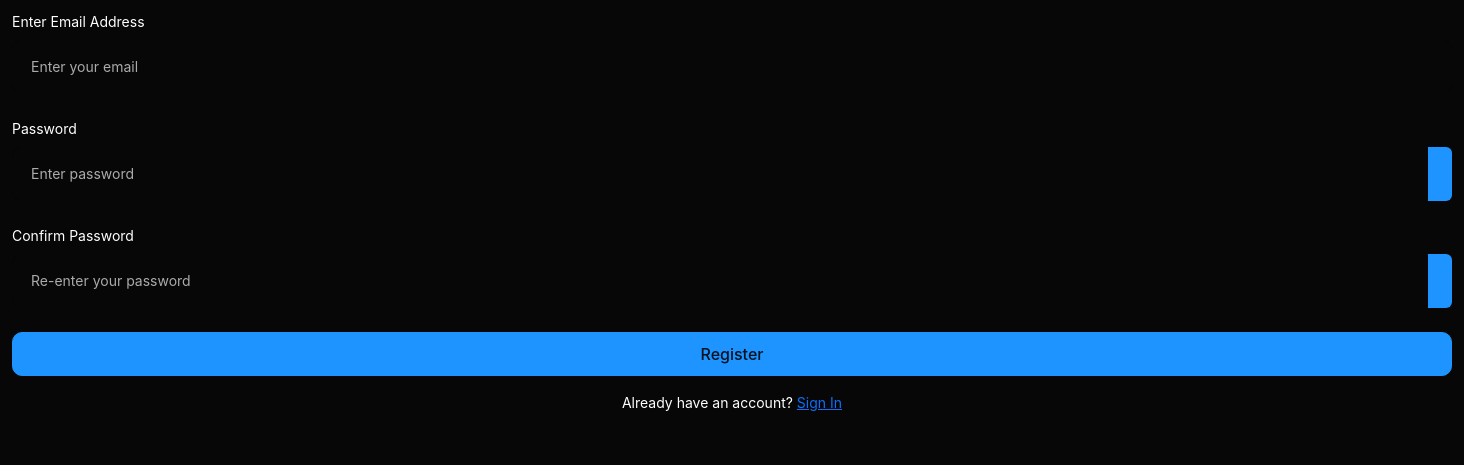
Test: Register — the submit path reaches the API (CRITICAL) › a rejection the form has no field for is still shown to the user
Type "newuser@test.com" into the field with placeholder "Enter your email" at (732, 67), box [12, 40, 1452, 94]
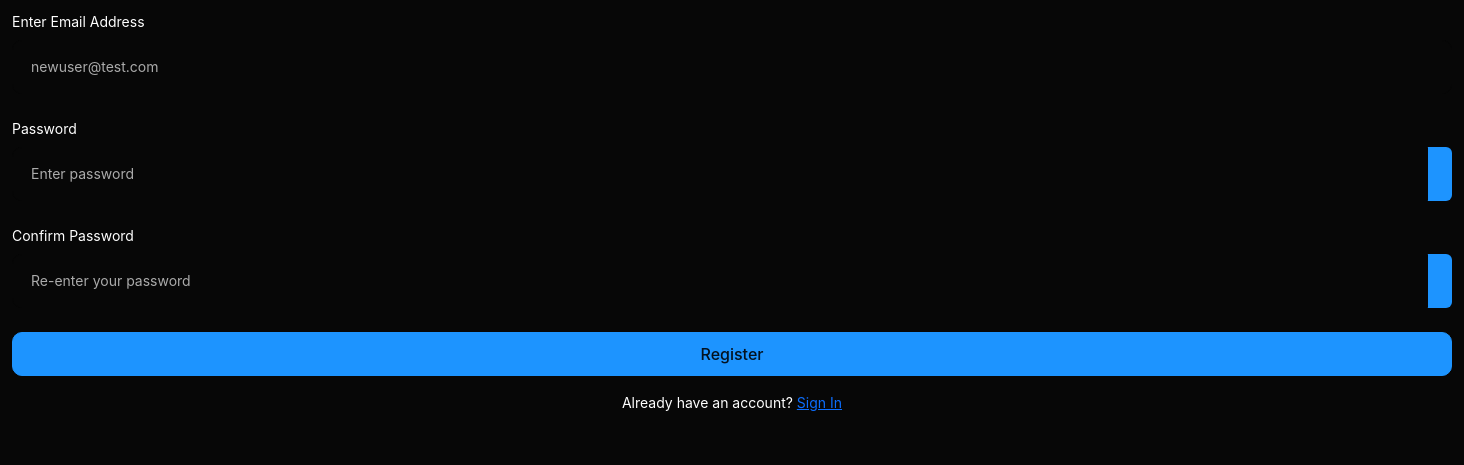
Type "FirstRun123!" into the password field with placeholder "Enter password" at (720, 174), box [12, 147, 1428, 201]
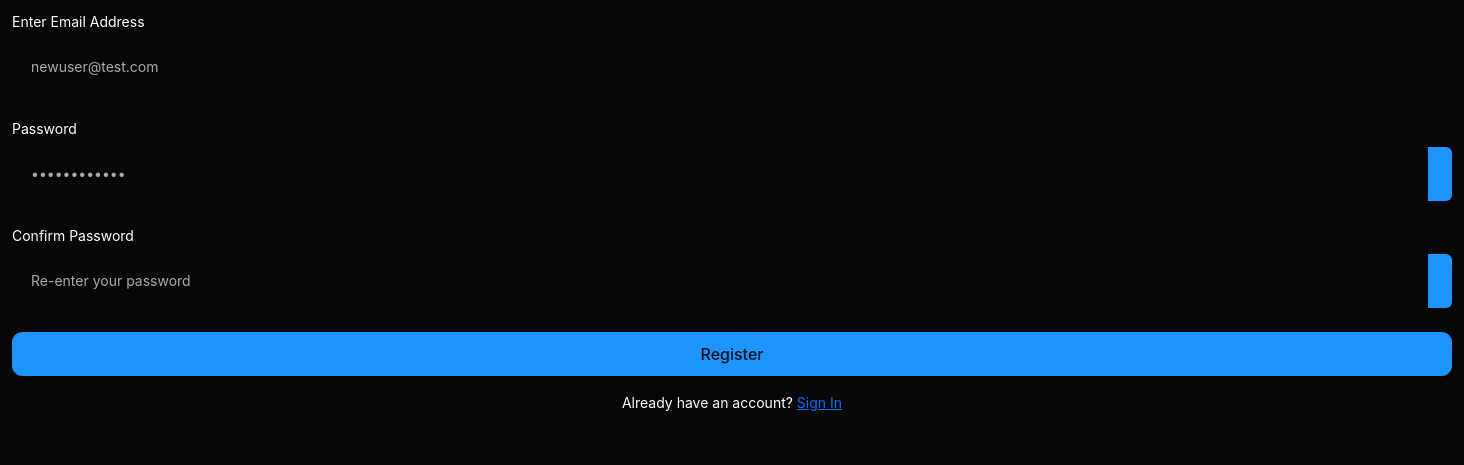
Type "FirstRun123!" into the password field with placeholder "Re-enter your password" at (720, 281), box [12, 254, 1428, 308]
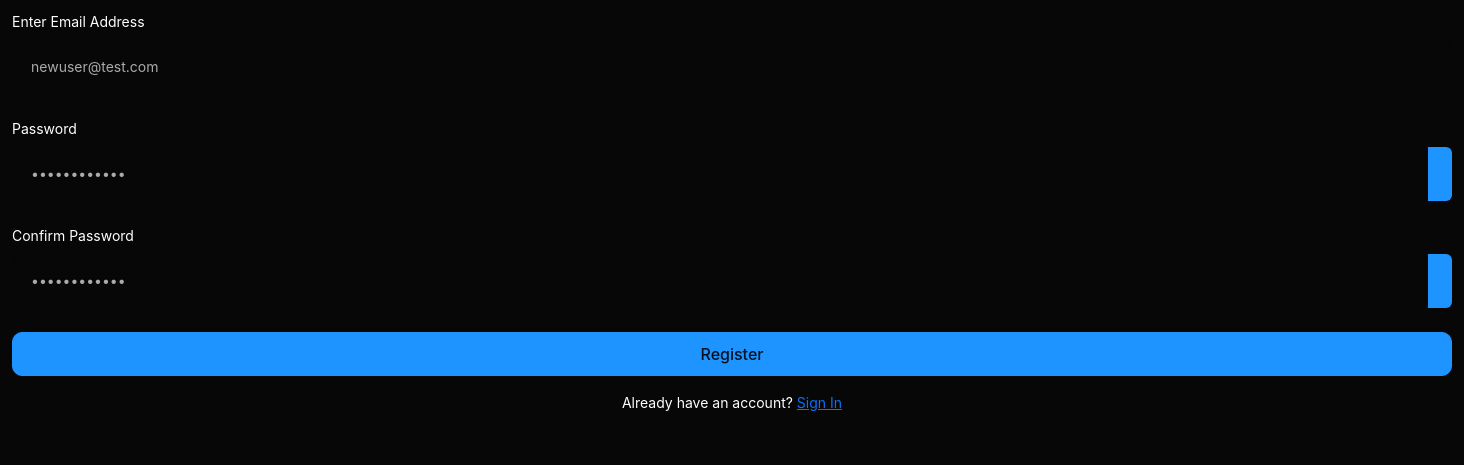
Click the button "Register" at (732, 354), box [12, 332, 1452, 376]
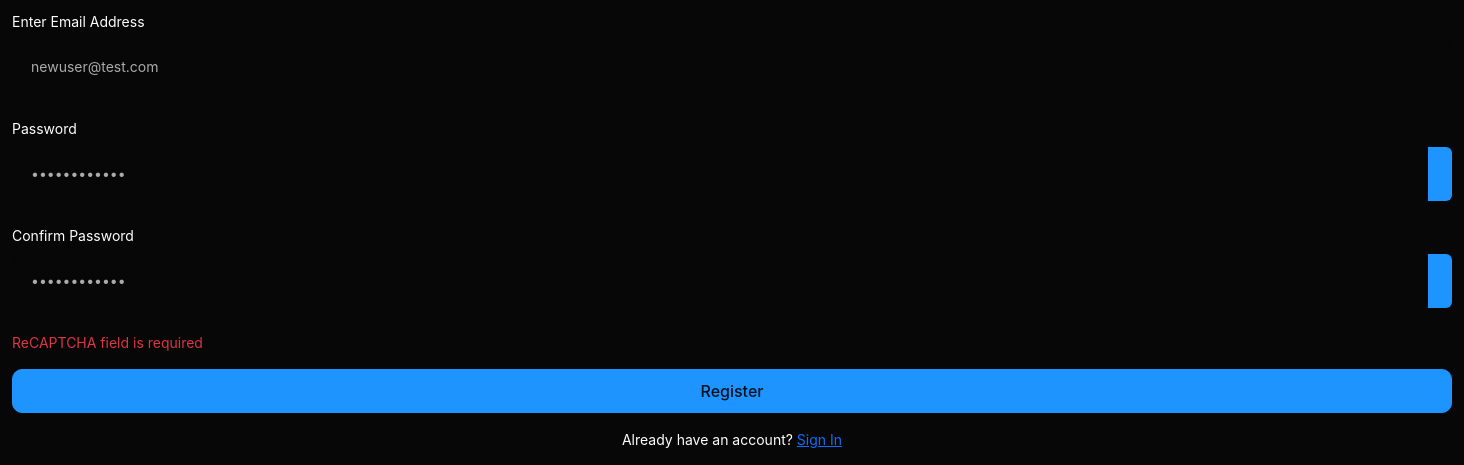
Result: the text with test id "register-form-error" reads "ReCAPTCHA field is required" at [12, 334, 203, 351]
